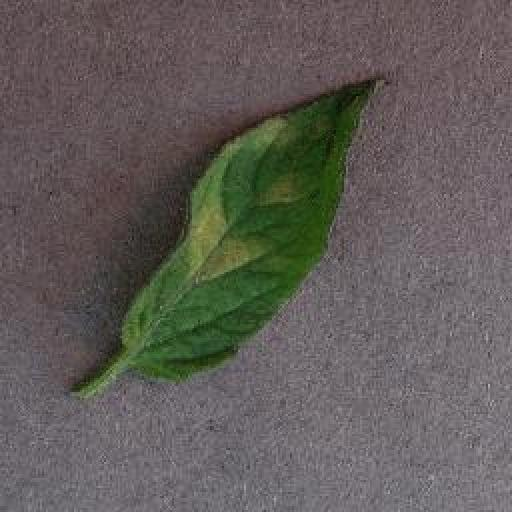disease_tomato: (124, 73, 382, 379)
